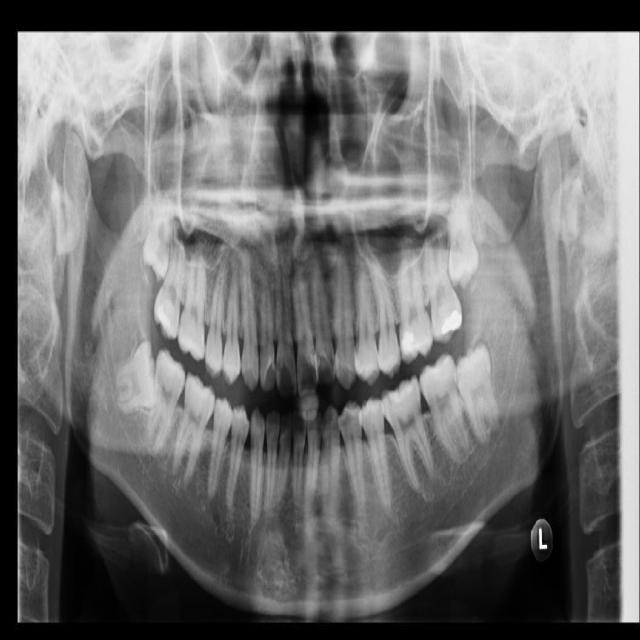3M ESPE Implant: (142, 189, 172, 283)
52: (397, 307, 435, 365), (428, 289, 465, 346), (296, 338, 320, 395), (313, 335, 338, 389), (335, 341, 358, 390)
73: (618, 582, 622, 598)
BioHorizons Implant: (418, 229, 467, 345)
BioLife Implant: (448, 189, 478, 289)
Biomet 3i Implant: (449, 340, 504, 446)
Blue Sky Bio Implant: (414, 350, 471, 463)
Caries: (151, 220, 191, 341)
Implant: (142, 347, 189, 456)
Keystone Dental Implant: (108, 339, 162, 414)
